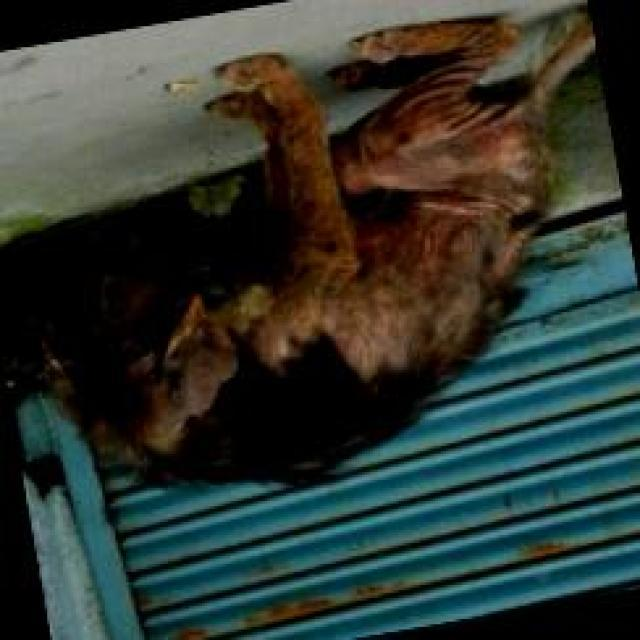fungal infection: (344, 302, 424, 364), (396, 218, 472, 275), (484, 134, 544, 182), (312, 236, 352, 260), (392, 130, 423, 148)
